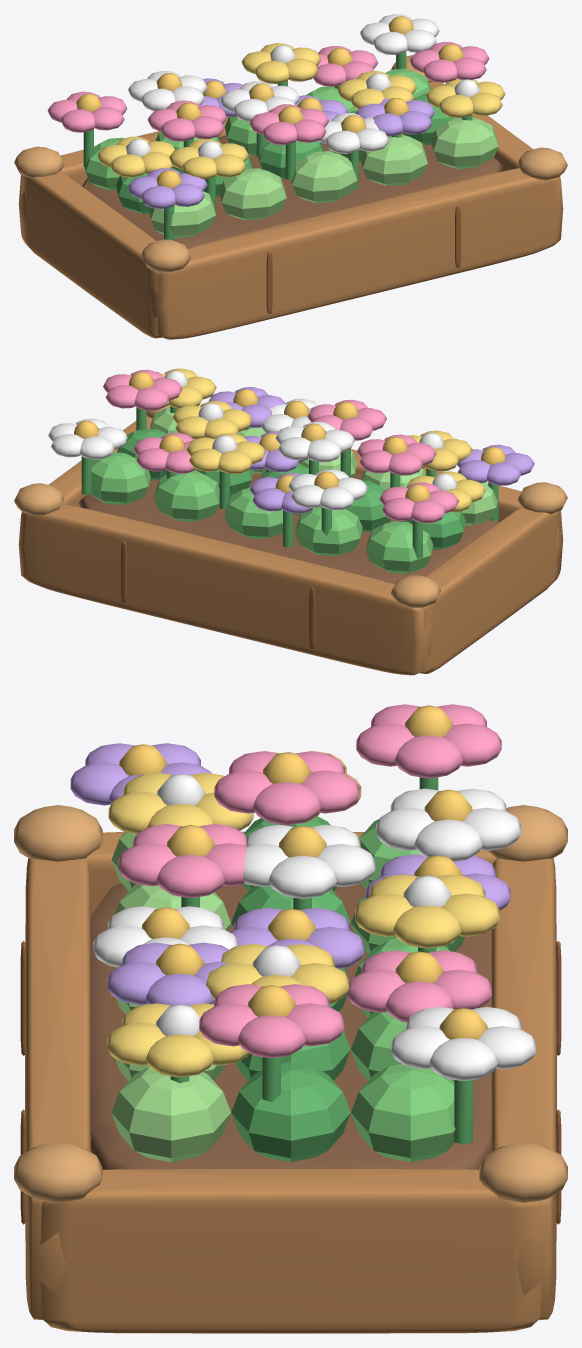
The model's file is flowerbed.glb.
3 renders of one model, top to bottom at view 1: azimuth 30°, elevation 25°; view 2: azimuth 150°, elevation 25°; view 3: azimuth 270°, elevation 25°, orthographic. The views are drawn at different scales.
Visible parts, largest first — view 1: flowerbed; view 2: flowerbed; view 3: flowerbed.
Part boxes in pixels (x1,y1,x2,y2): flowerbed: [14, 14, 567, 339]; flowerbed: [14, 368, 567, 675]; flowerbed: [14, 704, 567, 1333].
Size of the model in its own units: 1.34 by 0.5119 by 0.8331.
Materials: 1 (1 with a texture image).
